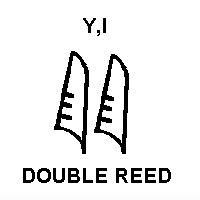Reed: (93, 44, 132, 160), (52, 49, 92, 158)
